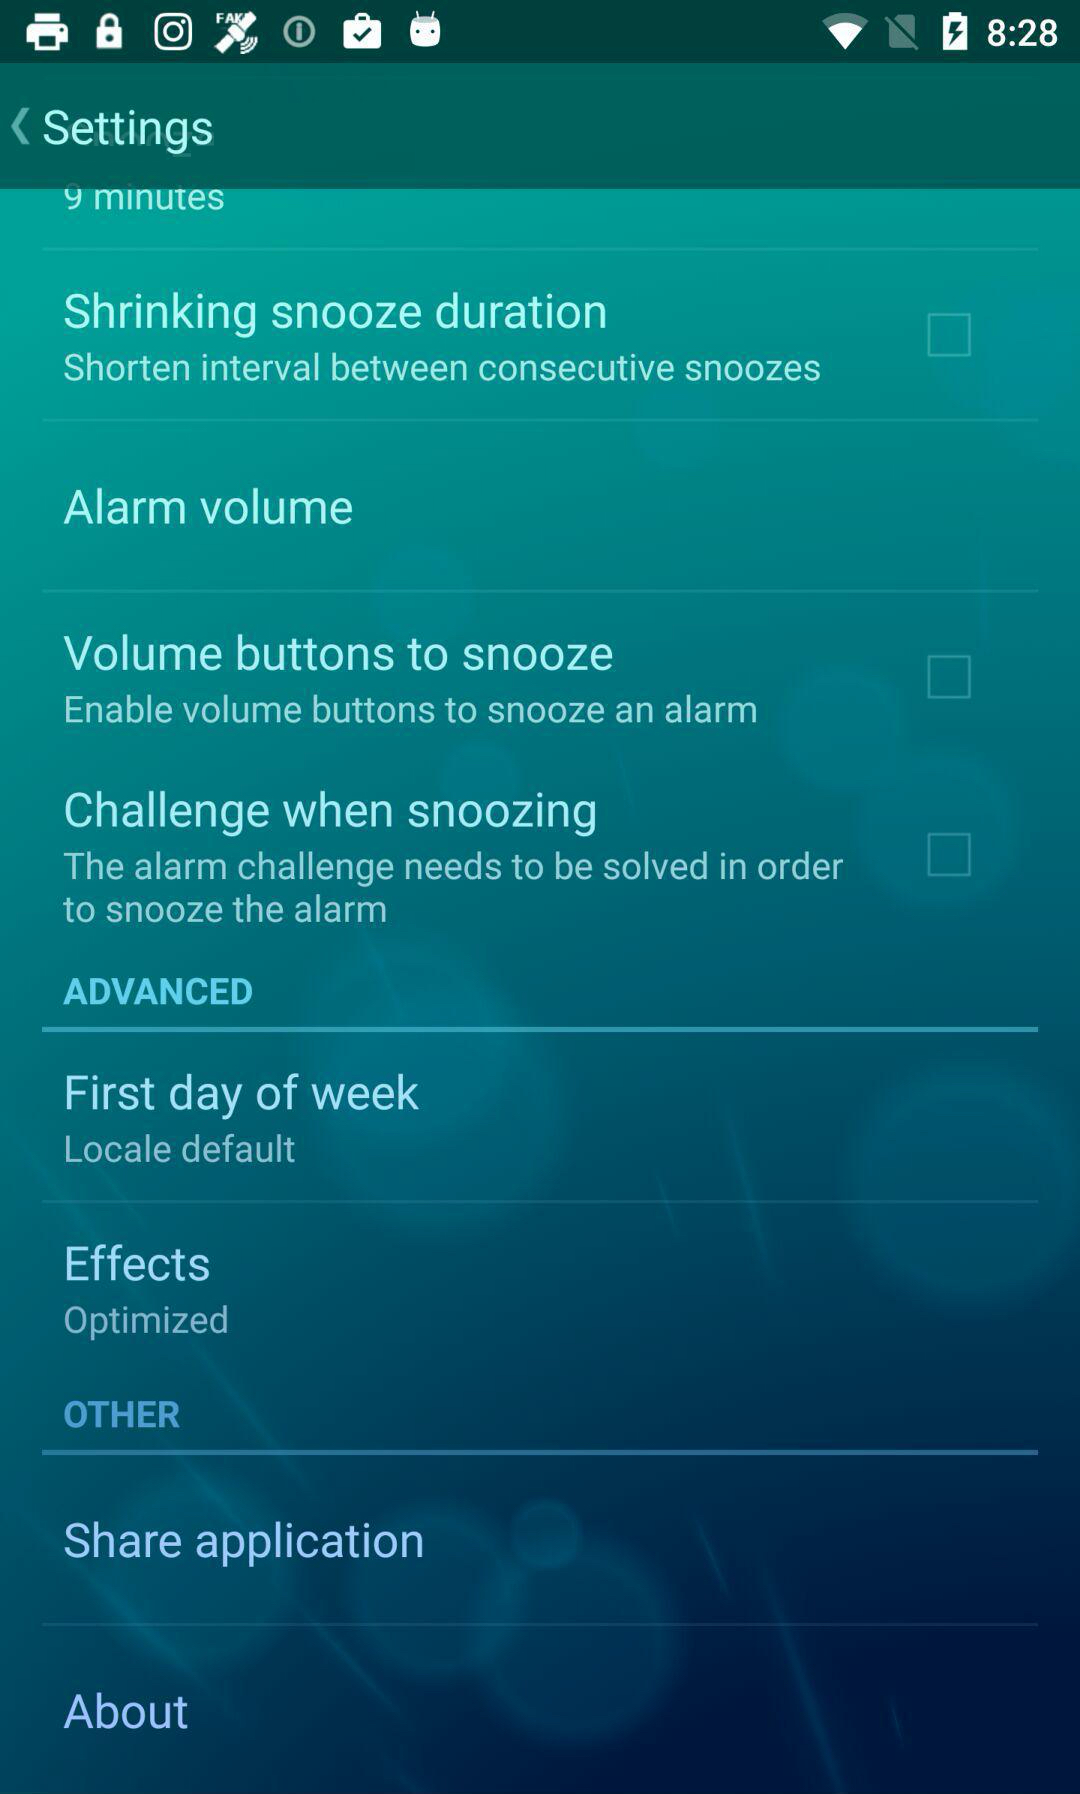CheckedTextView: (926, 832, 972, 879), (926, 655, 972, 701), (928, 311, 972, 359)
Icon: (12, 108, 33, 147)
Text: (63, 850, 844, 924), (64, 291, 607, 341), (65, 789, 596, 839), (63, 352, 821, 383), (67, 693, 757, 725), (64, 633, 614, 673), (64, 1520, 424, 1568), (67, 1073, 420, 1121), (64, 487, 354, 527), (44, 110, 214, 156), (67, 1133, 296, 1164), (61, 976, 254, 1007), (67, 1243, 211, 1283), (65, 1304, 229, 1335), (64, 1691, 190, 1730), (65, 188, 225, 211), (64, 1399, 181, 1429)
Toolbar: (1, 62, 1080, 188)
UpperTaskBar: (1, 1, 1080, 64)
